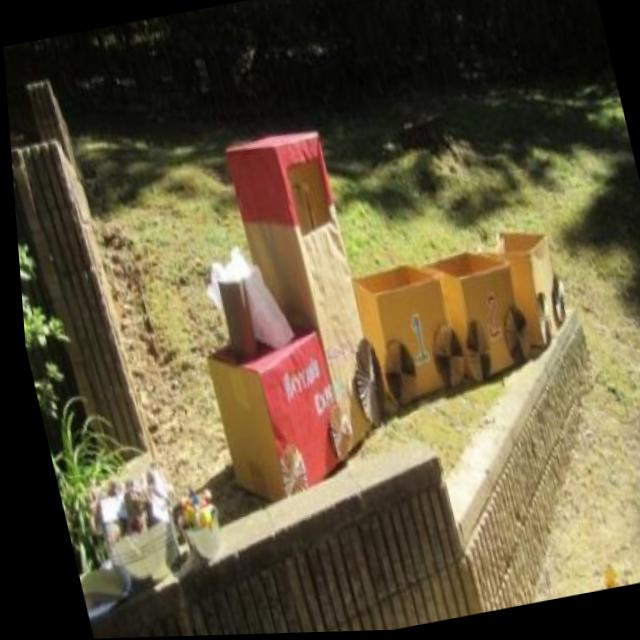box: (214, 116, 400, 478), (193, 319, 348, 502), (345, 250, 472, 446), (419, 216, 533, 410), (487, 199, 583, 369)
